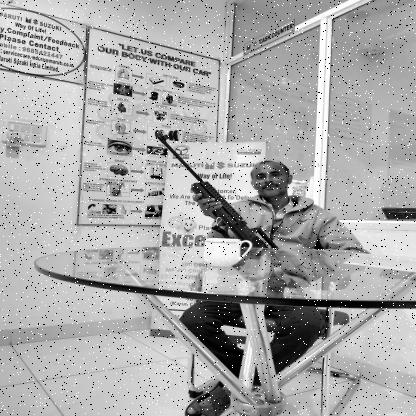rifle: (155, 134, 282, 250)
